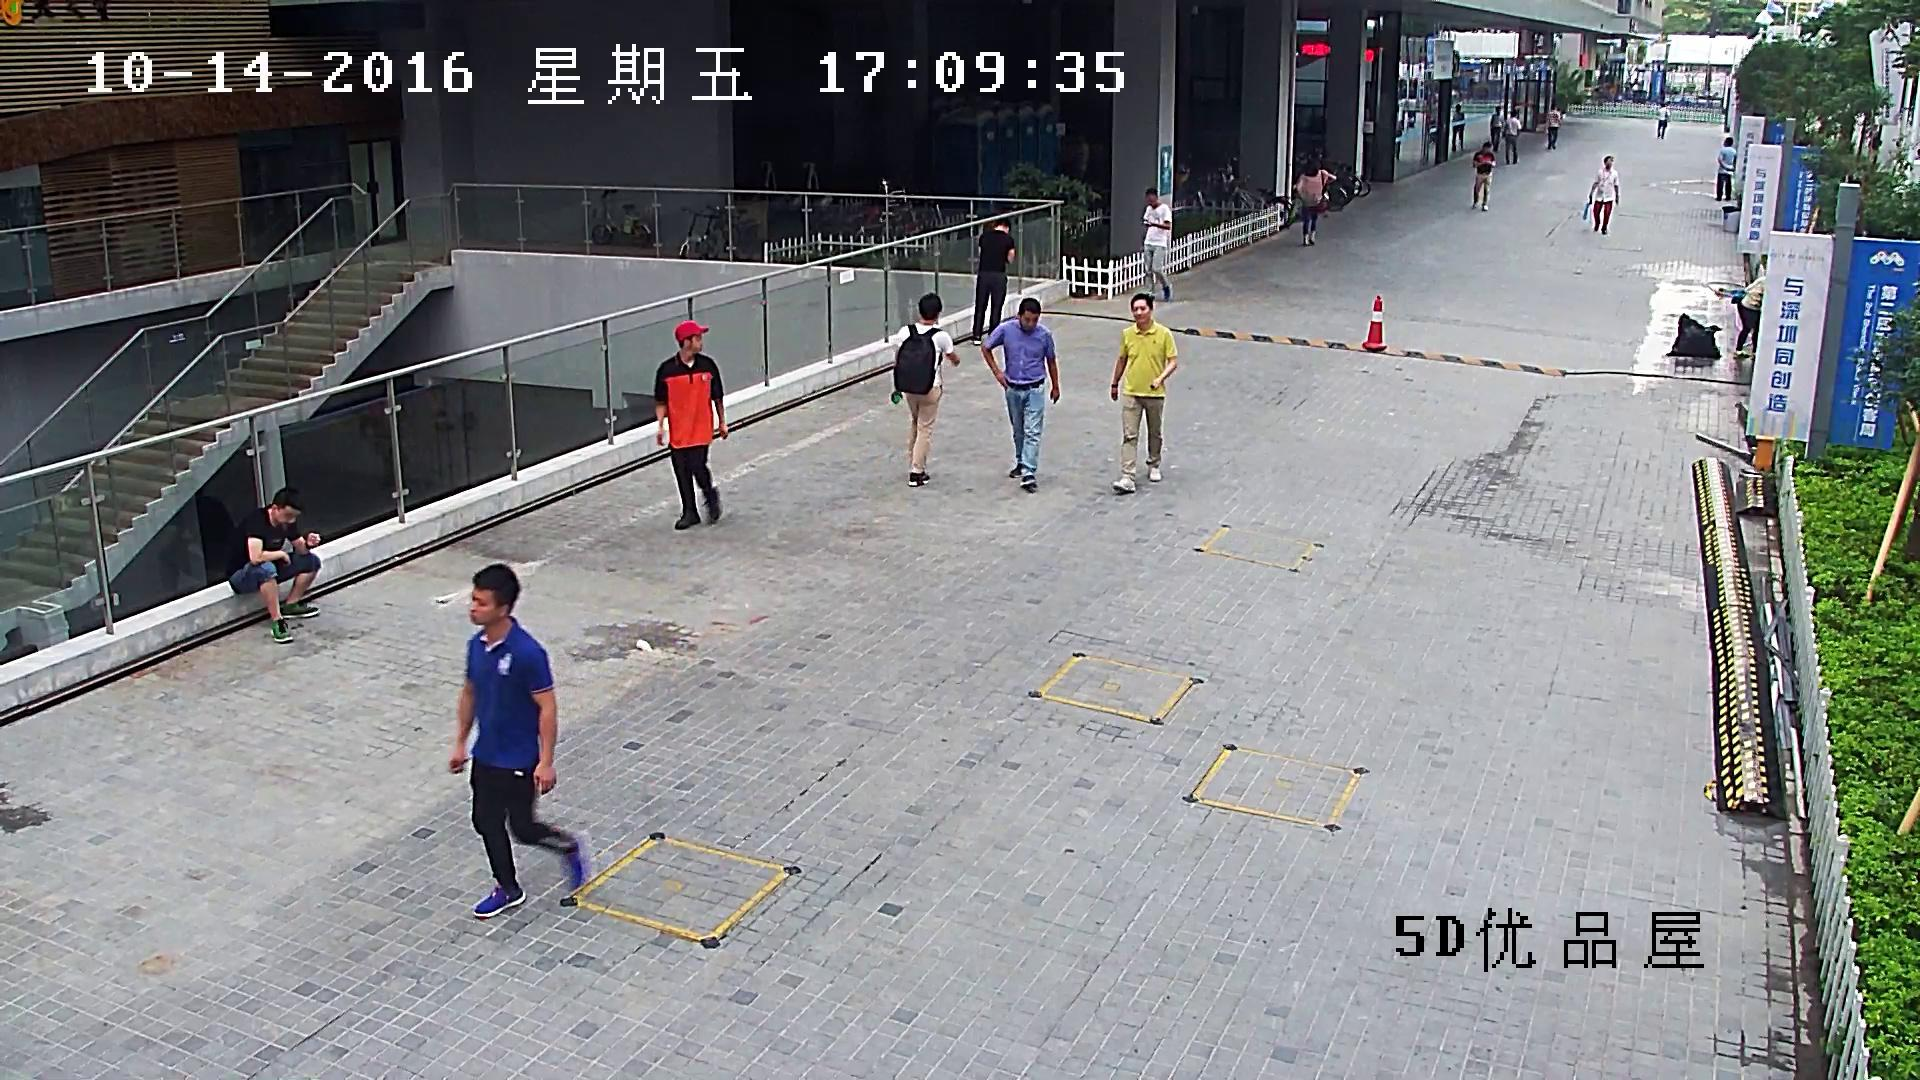person: (449, 564, 587, 918), (654, 320, 728, 530), (981, 298, 1060, 486), (226, 486, 321, 641), (890, 293, 960, 487), (1110, 293, 1177, 492), (971, 218, 1015, 345), (1139, 188, 1172, 301), (1583, 155, 1618, 235), (1730, 275, 1765, 358), (1296, 158, 1328, 246), (1471, 141, 1496, 211), (1714, 137, 1736, 201), (1504, 109, 1522, 165), (1490, 105, 1504, 152), (1547, 103, 1561, 149), (1451, 104, 1464, 152), (1655, 102, 1669, 139)
